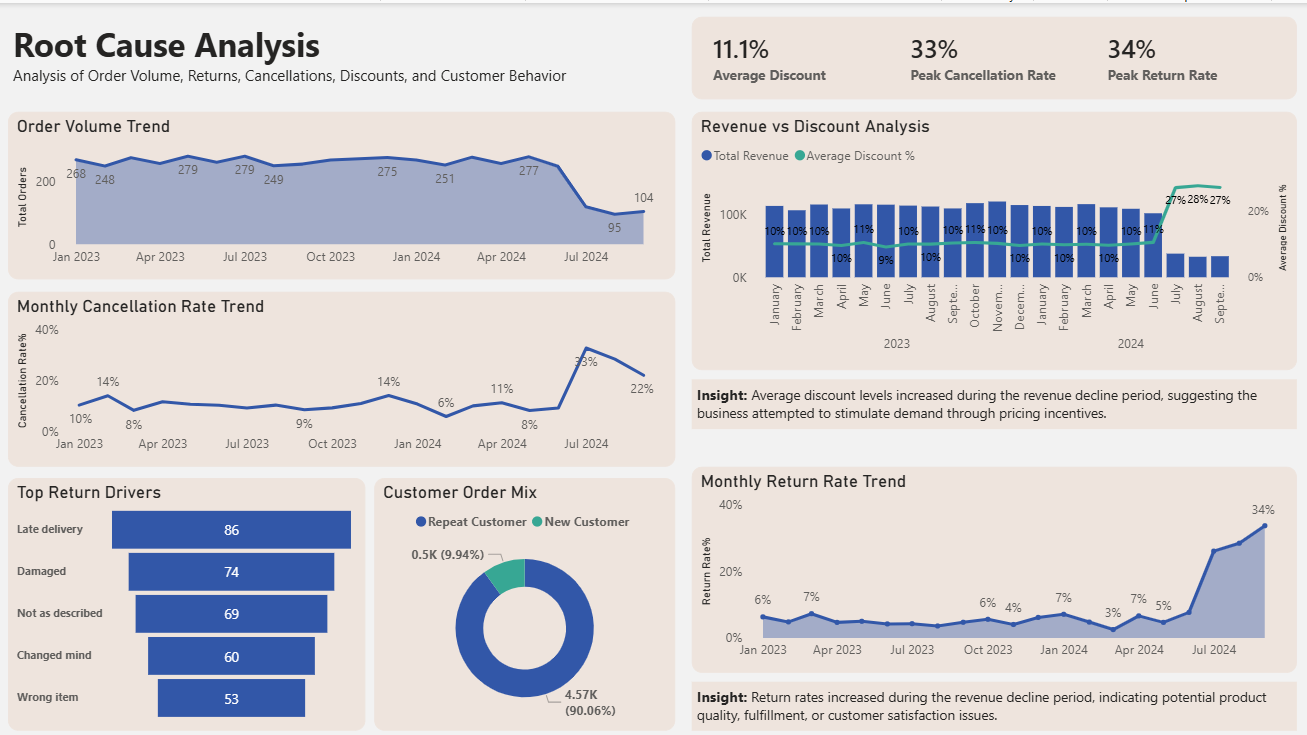

What the dashboard file says about the page in this screenshot:
{"tool":"powerbi","page":{"name":"ROOT CAUSE INVESTIGATION","canvas":[1280,720],"ordinal":1},"visuals":[{"type":"areaChart","title":"Order Volume Trend","fields":{"Y":["cleaned_orders.Total Orders"],"Category":["DateTable.Date.Variation.Date Hierarchy.Year","DateTable.Date.Variation.Date Hierarchy.Month"]},"box":[9.8,106.4,653,163.9],"z":0},{"type":"lineClusteredColumnComboChart","title":"Revenue vs Discount Analysis","fields":{"Category":["DateTable.Date.Variation.Date Hierarchy.Year","DateTable.Date.Variation.Date Hierarchy.Month"],"Y":["cleaned_orders.Total Revenue"],"Y2":["cleaned_orders.Average Discount %"]},"box":[678.7,106.4,591.9,253.1],"z":1000},{"type":"textbox","box":[678.7,368.1,591.9,48.9],"z":1001},{"type":"lineChart","title":"Monthly Cancellation Rate Trend","fields":{"Category":["DateTable.Date.Variation.Date Hierarchy.Year","DateTable.Date.Variation.Date Hierarchy.Month"],"Y":["cleaned_orders.Cancellation Rate%"]},"box":[9.8,282.5,653,171.2],"z":1002},{"type":"areaChart","title":"Monthly Return Rate Trend","fields":{"Category":["DateTable.Date.Variation.Date Hierarchy.Year","DateTable.Date.Variation.Date Hierarchy.Month"],"Y":["cleaned_returns.Return Rate%"]},"box":[678.7,453.7,591.9,201.8],"z":1003},{"type":"textbox","box":[678.7,664,591.9,47.7],"z":1004},{"type":"donutChart","title":"Customer Order Mix","fields":{"Category":["cleaned_orders.Customer Type"],"Y":["Count(cleaned_orders.order_id)"]},"box":[368.1,464.7,294.7,247],"z":1005},{"type":"funnel","title":"Top Return Drivers","fields":{"Category":["cleaned_returns.reason"],"Y":["cleaned_returns.Total Returns"]},"box":[9.8,464.7,349.7,247],"z":1006},{"type":"textbox","box":[9.8,13.5,599.2,80.7],"z":1007},{"type":"cardVisual","fields":{"Data":["cleaned_orders.Average Discount %","cleaned_orders.Peak Cancellation Rate","cleaned_returns.Peak Return Rate"]},"box":[678.7,13.5,591.9,80.7],"z":1008}]}

Visuals, with their boxes in screenshot pixels (x1, y1, x2, y2), scaled from the page's 1280x720 canvas onto the 1307x735 screenshot:
"Order Volume Trend" areaChart: box=[10, 109, 677, 276]
"Revenue vs Discount Analysis" lineClusteredColumnComboChart: box=[693, 109, 1297, 367]
textbox: box=[693, 376, 1297, 426]
"Monthly Cancellation Rate Trend" lineChart: box=[10, 288, 677, 463]
"Monthly Return Rate Trend" areaChart: box=[693, 463, 1297, 669]
textbox: box=[693, 678, 1297, 727]
"Customer Order Mix" donutChart: box=[376, 474, 677, 727]
"Top Return Drivers" funnel: box=[10, 474, 367, 727]
textbox: box=[10, 14, 622, 96]
cardVisual - cleaned_orders.Average Discount % x cleaned_orders.Peak Cancellation Rate: box=[693, 14, 1297, 96]
